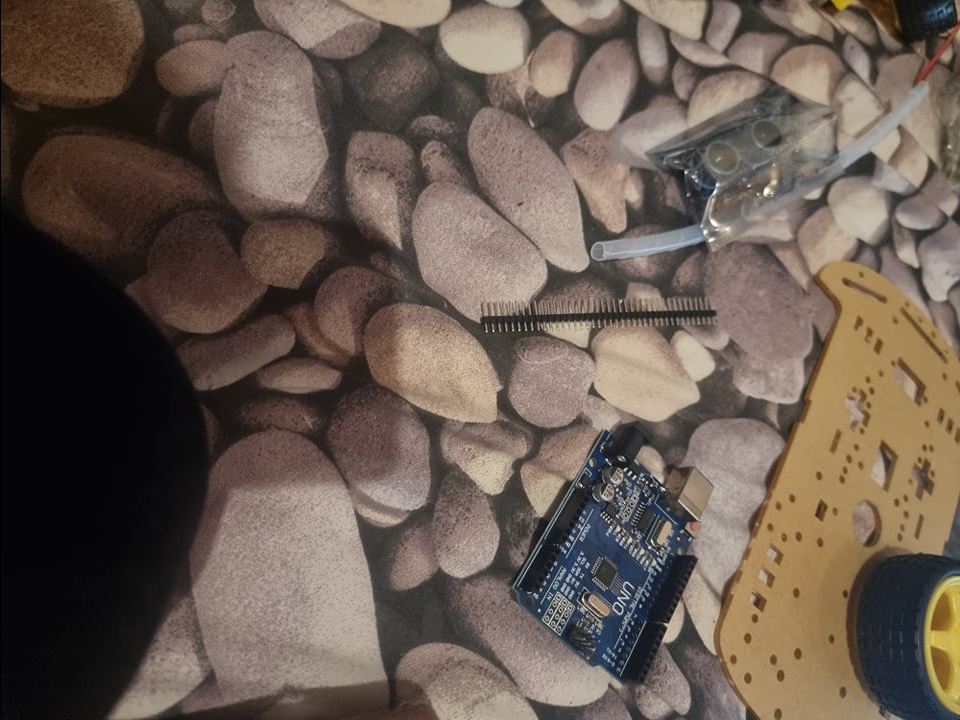SENSOR: (685, 112, 786, 189)
UNO R3: (507, 414, 715, 688)
